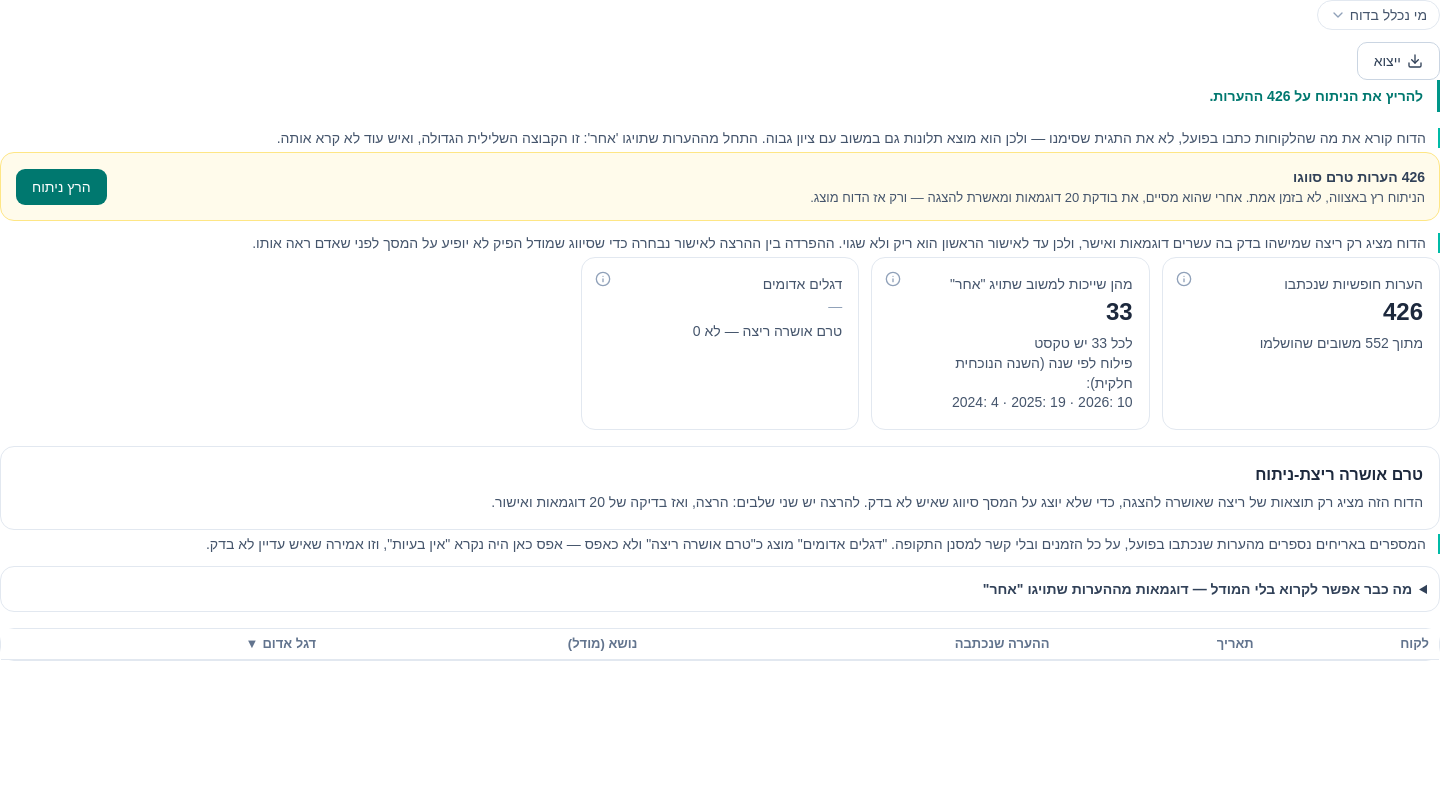
Scenario: מ22 · ניתוח הערות + מ25 · פס-הניתוח › "הרץ ניתוח" קורא ל-classify-feedback, ותשובת `partial` מציגה נעצר N/M עם [המשך]
Click the button with test id "m25-run-button" at (61, 187), box [15,168,108,206]
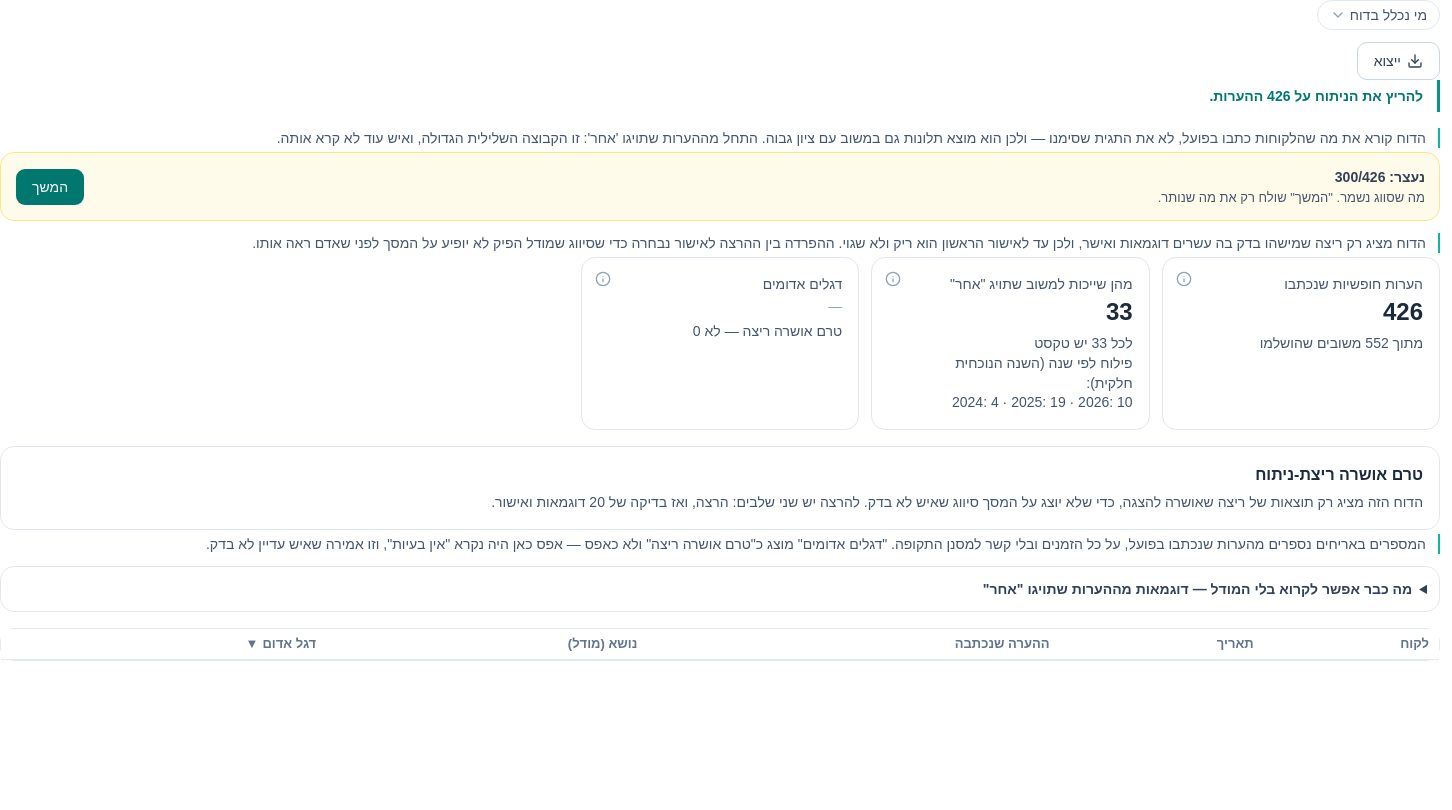
Now the text with test id "m25-run-text" shows "נעצר", box [1335,169,1425,185]
Now the text with test id "m25-run-text" shows "300/426", box [1335,169,1425,185]
Now the button with test id "m25-run-button" reads "המשך"
Click the button with test id "m25-run-button" at (50, 187), box [15,168,85,206]
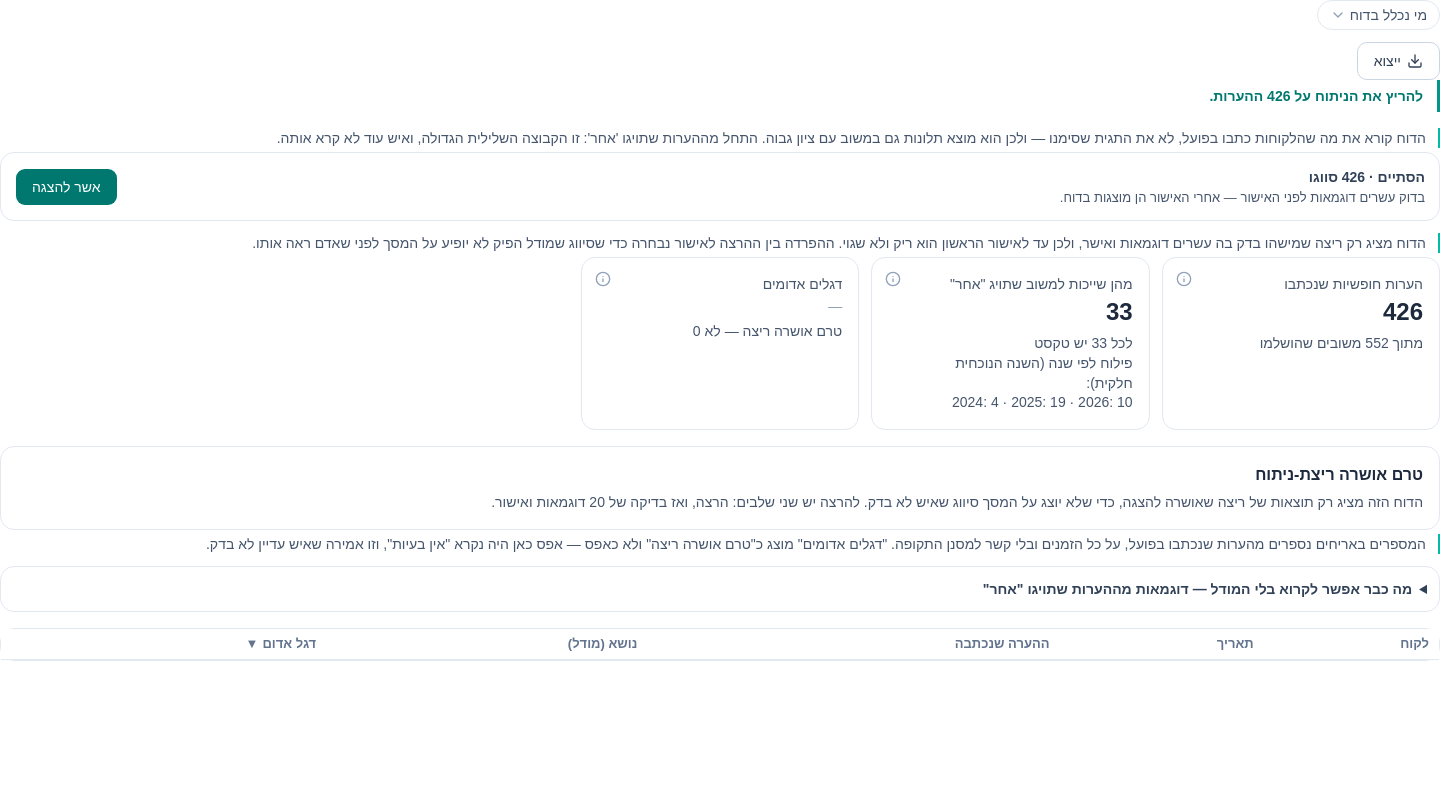
Now the button with test id "m25-run-button" reads "אשר להצגה", box [15,168,118,206]
